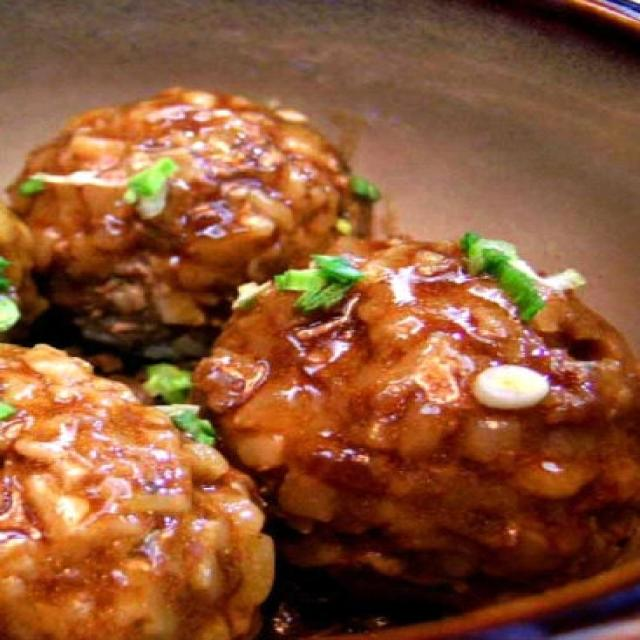猪肉菜式: (14, 44, 623, 610)
